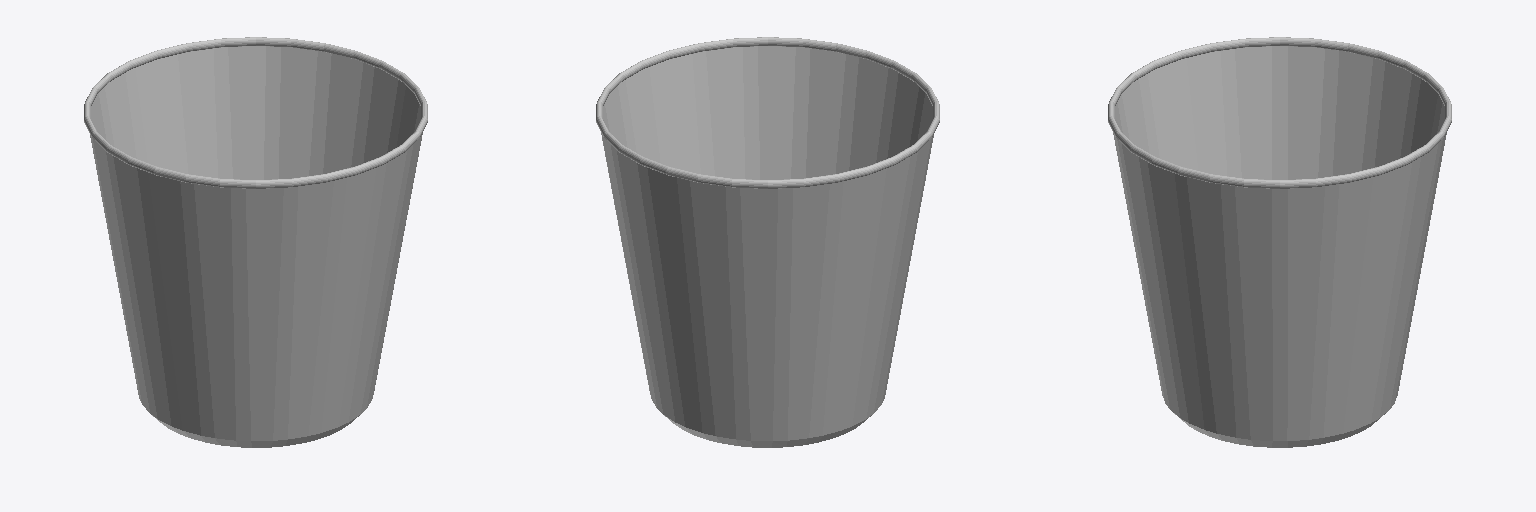
The model's file is Bin 001.obj.
3 renders of one model, left to right at view 1: azimuth 30°, elevation 25°; view 2: azimuth 150°, elevation 25°; view 3: azimuth 270°, elevation 25°, orthographic.
Visible parts, largest first — view 1: pCylinder2; view 2: pCylinder2; view 3: pCylinder2.
Part boxes in pixels (left/top/right/bottom): pCylinder2: left=84, top=37, right=427, bottom=447; pCylinder2: left=596, top=37, right=939, bottom=447; pCylinder2: left=1108, top=37, right=1451, bottom=447.
Size of the model in its own units: 2.96 by 2.78 by 2.94.